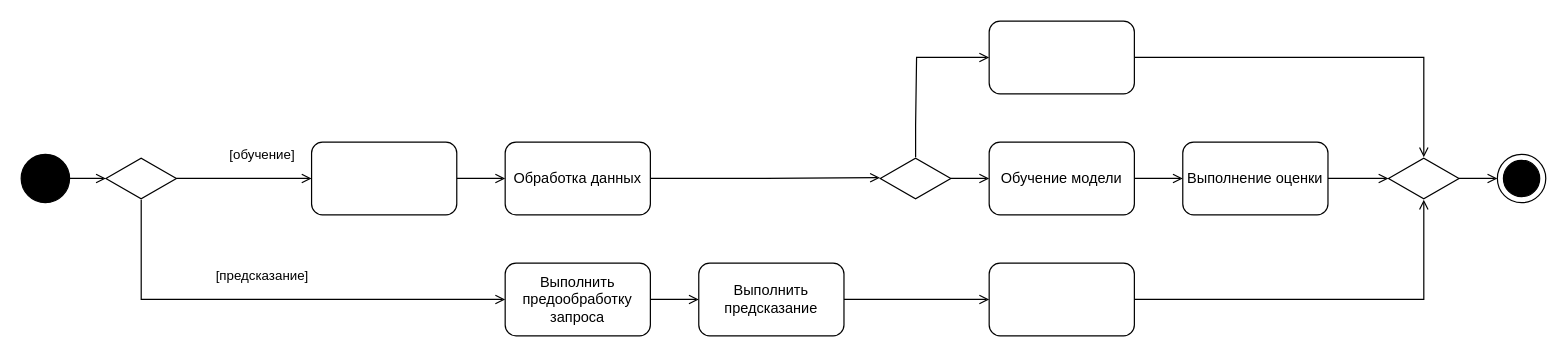
The diagram is 1567 pixels wide and 357 high, and some of its shapes have lost their labels. Here are the shapes that lost their labels. From the top down, the centre of each, then its label:
[1061,57]: Дообучение модели
[383,178]: Сбор данных
[1061,299]: Выполнить постобработку запроса
